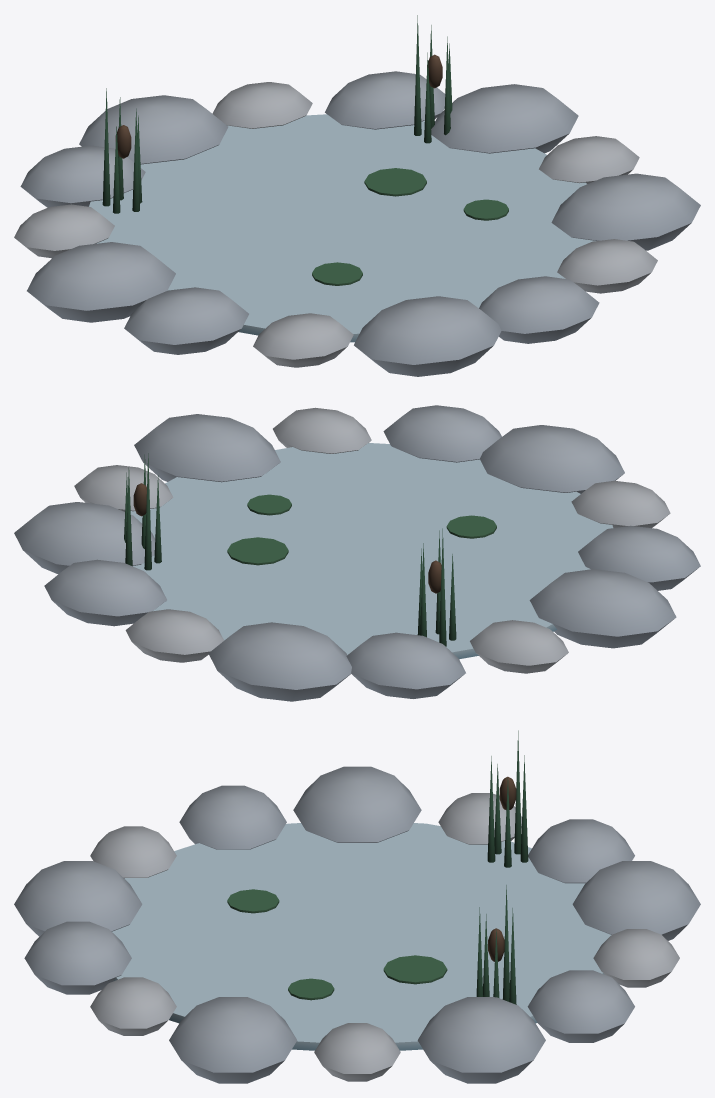
File: ck_pond_edge.fbx
3 views of the same model, one above another, from view 1: azimuth 30°, elevation 25°; view 2: azimuth 150°, elevation 25°; view 3: azimuth 270°, elevation 25° (orthographic). The views are drawn at different scales.
Visible parts, largest first — view 1: ck_pond_edge; view 2: ck_pond_edge; view 3: ck_pond_edge.
Part boxes in pixels (<box>): ck_pond_edge: <box>14,15,700,376</box>; ck_pond_edge: <box>14,405,700,701</box>; ck_pond_edge: <box>14,730,700,1083</box>.
Bounding box in the file's own units: 980 × 233 × 961.
